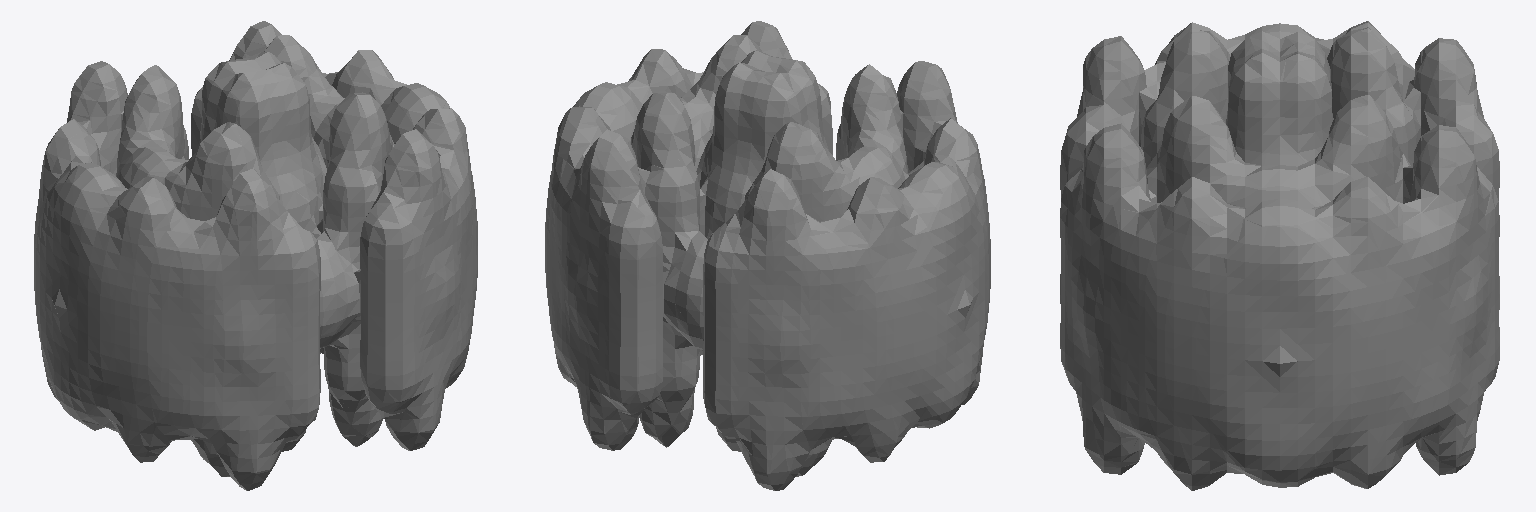
robot.urdf — cube.urdf:
<?xml version="0.0" ?> 
<robot name="cube.urdf"> 
<link name="legobrick"> 
<contact> 
<lateral_friction value="5.0"/> 
<rolling_friction value="0.0"/> 
<contact_cfm value="0.0"/> 
<contact_erp value="1.0"/> 
</contact> 
<inertial> 
<origin rpy="0 0 0" xyz="0.0 0.0 0.0"/> 
<mass value=".01"/> 
<inertia ixx="1" ixy="0" ixz="0" iyy="1" iyz="0" izz="1"/> 
</inertial> 
<visual> 
<origin rpy="1.570796 0 0" xyz="-0.029473653848680698 0.029474684781349358 -0.029503925982595536"/> 
<geometry> 
<mesh filename="D20_0.obj" scale="0.000700433508542277 0.000700433508542277 0.000700433508542277"/> 
</geometry> 
<material name="yellow"> 
<color rgba="0.6 0.6 0.6 1"/> 
</material> 
</visual> 
<collision> 
<origin rpy="1.570796 0 0" xyz="-0.029473653848680698 0.029474684781349358 -0.029503925982595536"/> 
<geometry> 
<mesh filename="D20_0.obj" scale="0.000700433508542277 0.000700433508542277 0.000700433508542277"/> 
</geometry> 
</collision> 
</link> 
</robot>

--- Facts derived from the render (not from the file) ---
Views: 3 orthographic renders of the robot side by side, from view 1: azimuth 30°, elevation 25°; view 2: azimuth 150°, elevation 25°; view 3: azimuth 270°, elevation 25°.
Model cube.urdf with 1 links and 0 joints (none), rooted at legobrick, posed all joints at 0.
Visible links, largest first — view 1: legobrick; view 2: legobrick; view 3: legobrick.
Link boxes in pixels (<box>): legobrick: <box>34,21,477,490</box>; legobrick: <box>545,21,990,490</box>; legobrick: <box>1060,21,1499,490</box>.
Bounding box of the posed robot: 0.0609 × 0.0522 × 0.056 m (x, y, z).
1 mesh visuals loaded from 1 distinct referenced files (1 OBJ).
